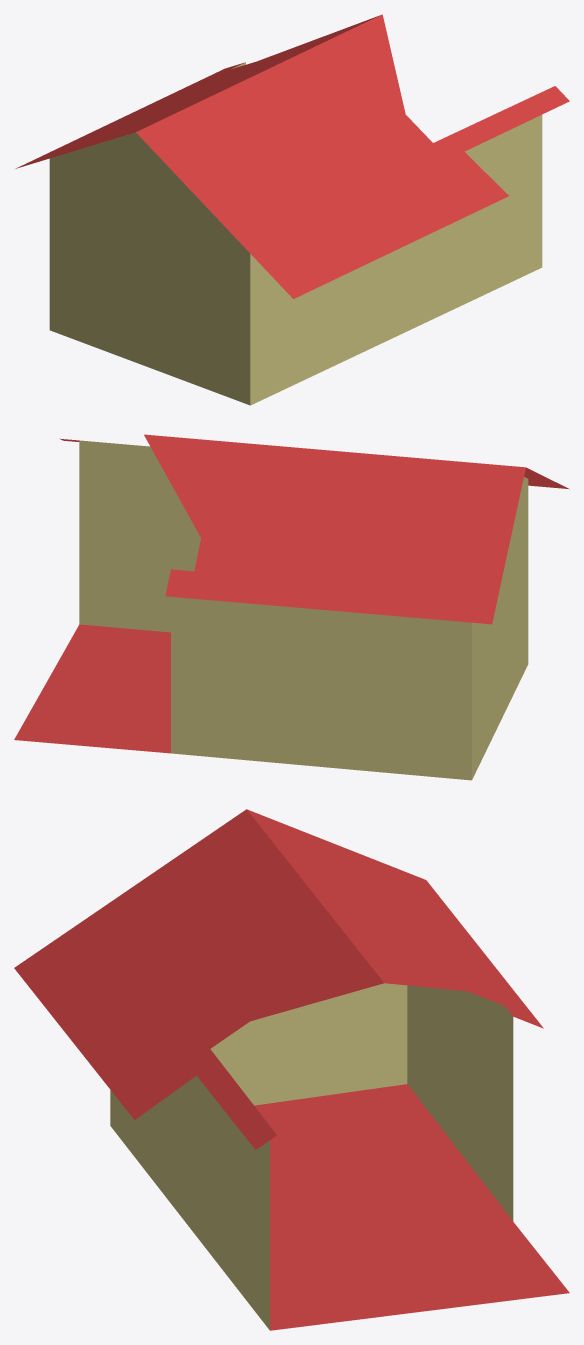
3 renders of one model, top to bottom at view 1: azimuth 30°, elevation 25°; view 2: azimuth 150°, elevation 25°; view 3: azimuth 270°, elevation 25°, orthographic. The views are drawn at different scales.
Size of the model in its own units: 26.38 by 22.57 by 12.75.
